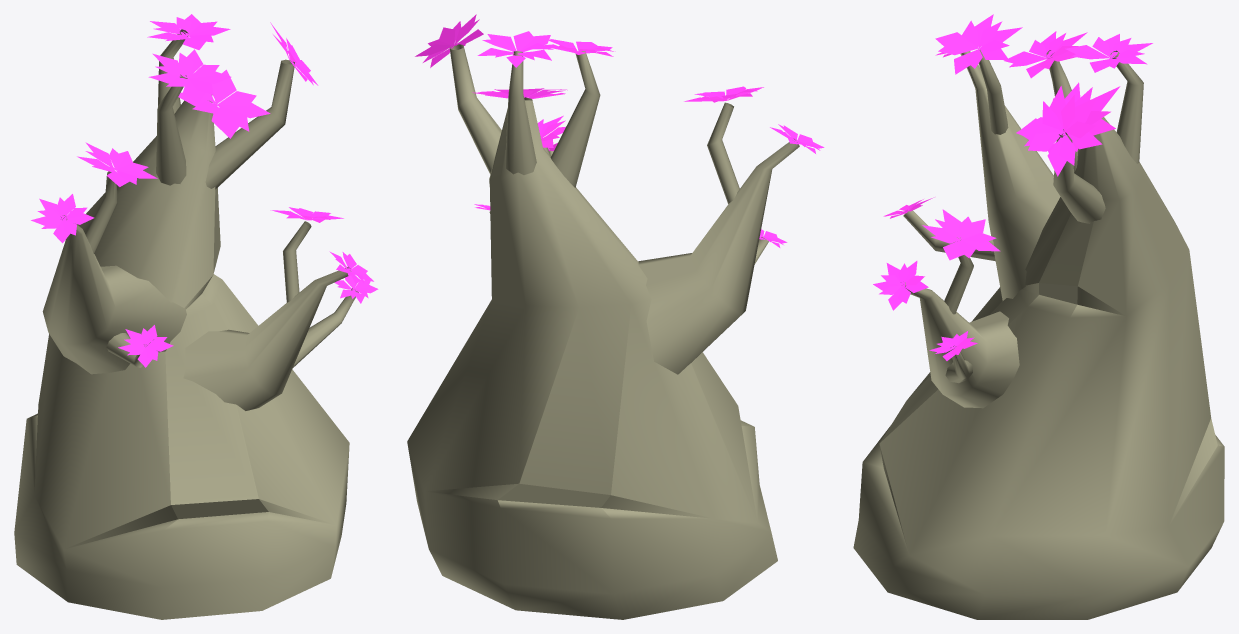
The model's file is desert_flower_mesh_v02.fbx.
3 views of the same model, side by side, from view 1: azimuth 30°, elevation 25°; view 2: azimuth 150°, elevation 25°; view 3: azimuth 270°, elevation 25° (orthographic). The views are drawn at different scales.
Parts seen in each view (by area): view 1: desert_flower_mesh_v01; view 2: desert_flower_mesh_v01; view 3: desert_flower_mesh_v01.
Boxes of the visible parts, <box> form: desert_flower_mesh_v01: <box>14,14,378,619</box>; desert_flower_mesh_v01: <box>407,14,824,619</box>; desert_flower_mesh_v01: <box>853,14,1224,619</box>.
Size of the model in its own units: 71.13 by 98.45 by 63.63.
